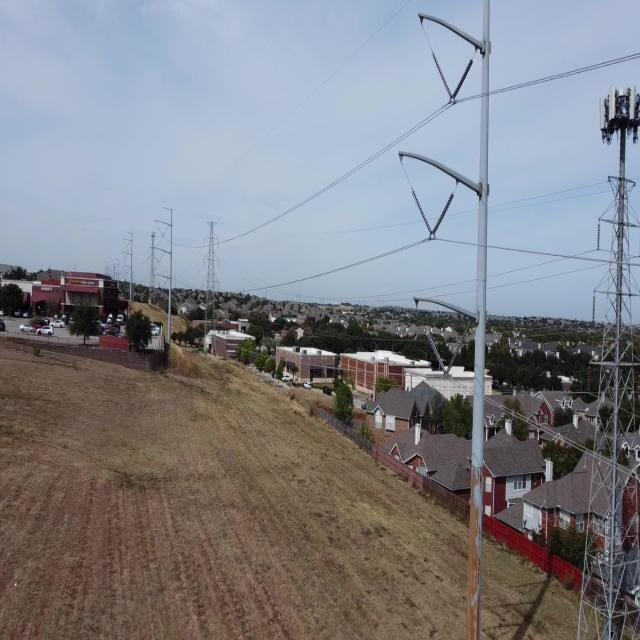杆塔: (572, 165, 640, 640), (200, 212, 227, 352), (144, 223, 162, 318)
正常绝缘子: (429, 48, 455, 101), (442, 329, 468, 380), (410, 185, 435, 237), (424, 328, 449, 379), (430, 191, 455, 239), (450, 58, 474, 104), (588, 283, 600, 337), (592, 214, 604, 257)
